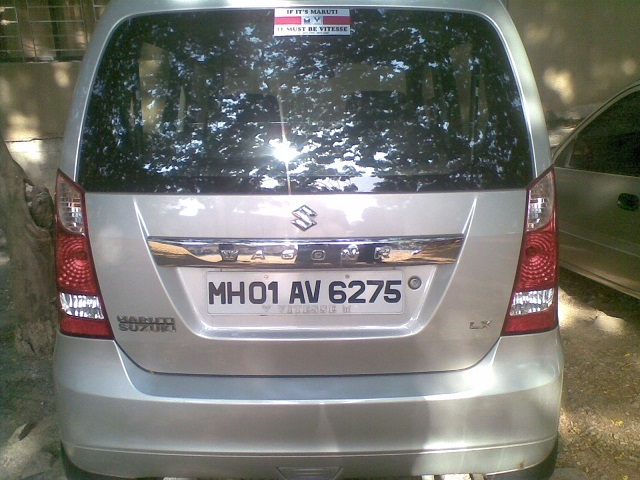licenseplate: (206, 267, 411, 317)
